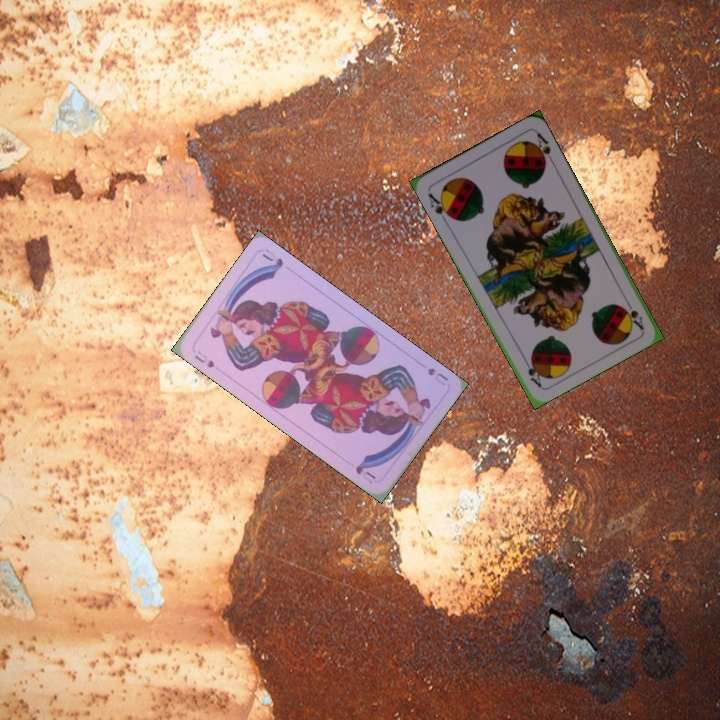SA: (424, 189, 455, 225), (620, 304, 646, 332)
SU: (423, 364, 451, 388), (191, 347, 217, 371)
